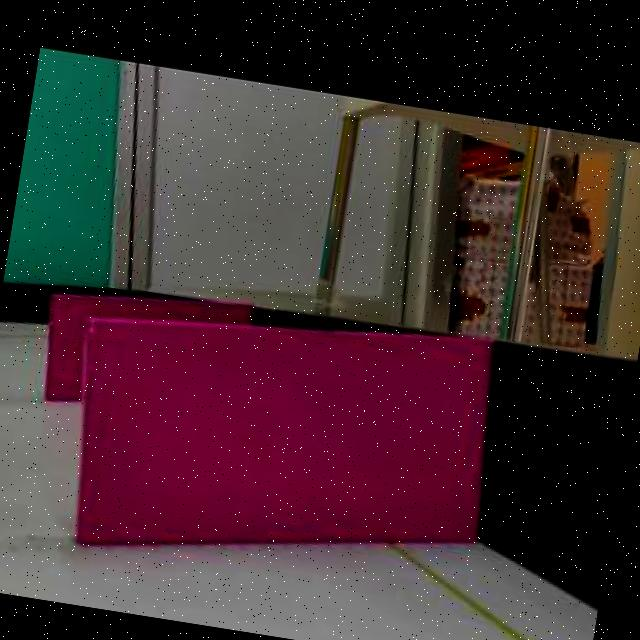xparking: (76, 318, 493, 546), (45, 295, 81, 399)
